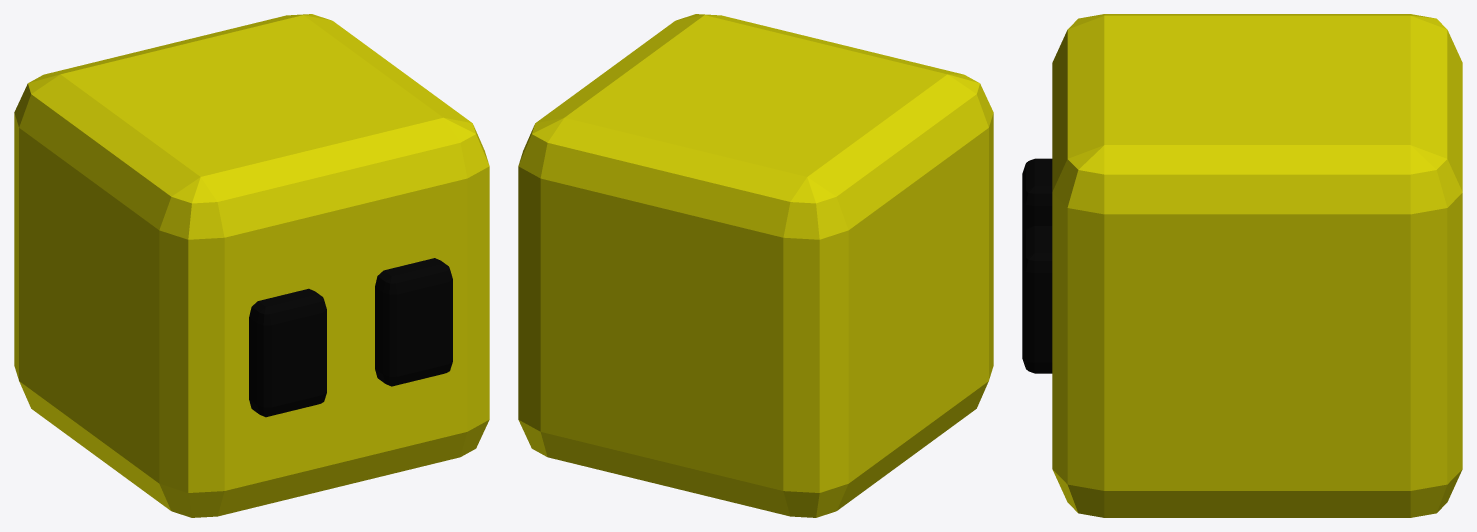
File: cubo 1.gltf
The picture shows the model from 3 angles, left to right: view 1: azimuth 30°, elevation 25°; view 2: azimuth 150°, elevation 25°; view 3: azimuth 270°, elevation 25°; orthographic projection. The views are drawn at different scales.
Size of the model in its own units: 0.04 by 0.0399 by 0.0429.
